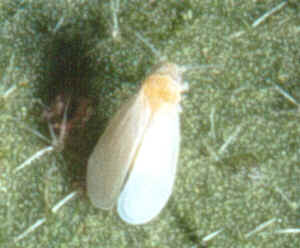whitefly: (88, 31, 218, 226)
